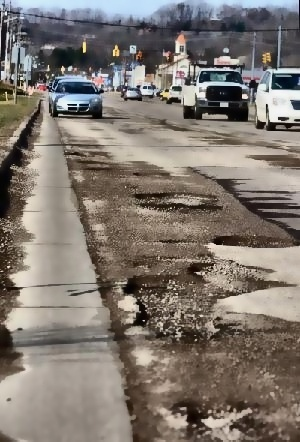pothole: (120, 272, 218, 346), (177, 399, 259, 434), (188, 260, 261, 294), (135, 201, 223, 219), (208, 233, 299, 250), (133, 190, 215, 197), (130, 170, 171, 179)
